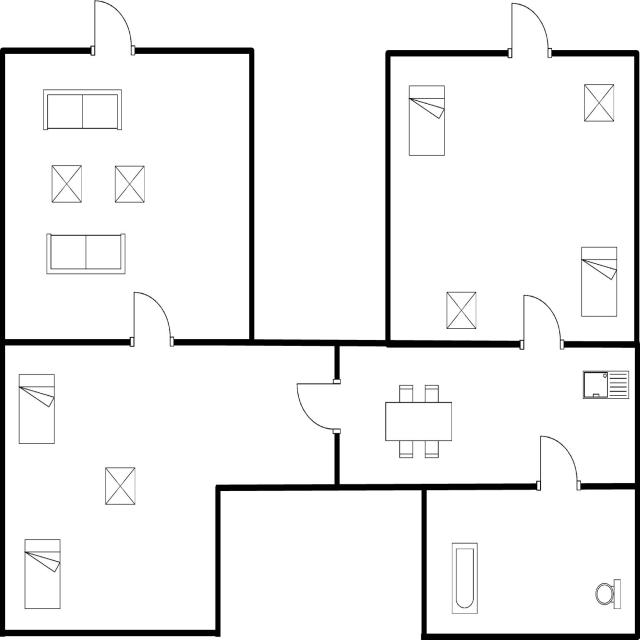bed: (576, 241, 622, 321), (403, 80, 448, 161), (13, 371, 58, 448), (20, 534, 64, 612)
coffee_table: (48, 162, 88, 210), (579, 80, 619, 126), (103, 460, 140, 509), (110, 162, 148, 208), (442, 286, 480, 332)
dining_table: (380, 381, 458, 464)
large_sink: (592, 574, 626, 614)
large_sofa: (38, 82, 126, 136), (44, 228, 128, 282)
sink: (578, 366, 632, 403)
tub: (446, 537, 482, 621)
